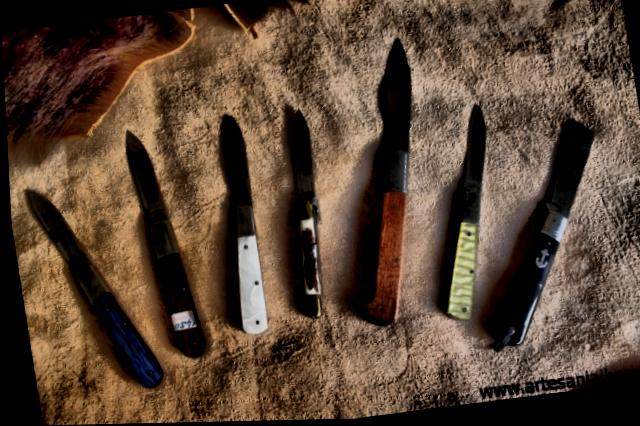knife: (350, 29, 432, 204), (18, 172, 114, 316), (117, 117, 188, 277), (207, 109, 263, 252), (439, 98, 502, 225), (272, 106, 324, 236)
